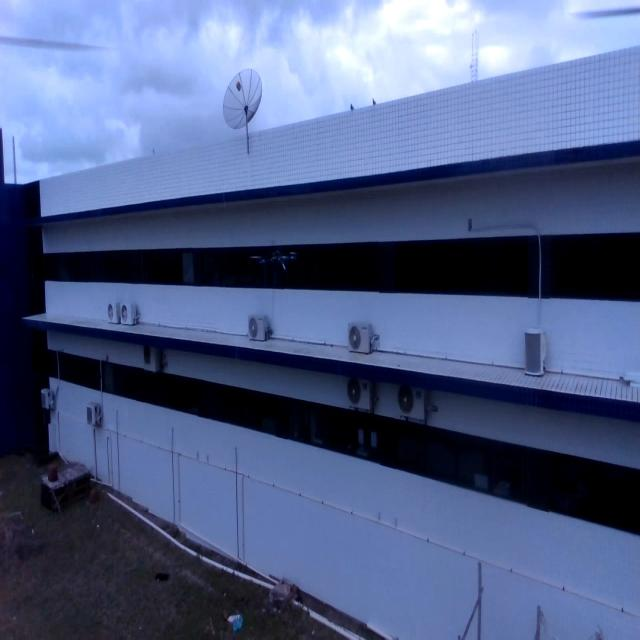-uav-: (249, 230, 309, 314)
